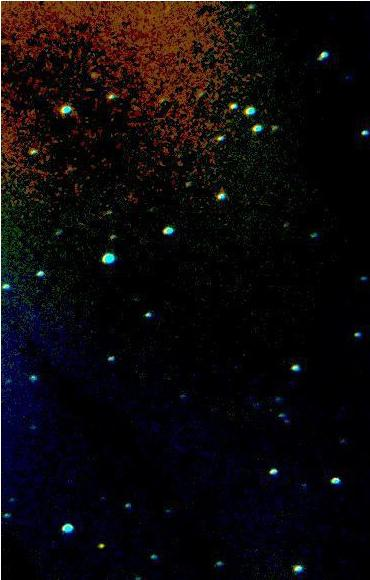star: (87, 530, 117, 560)
